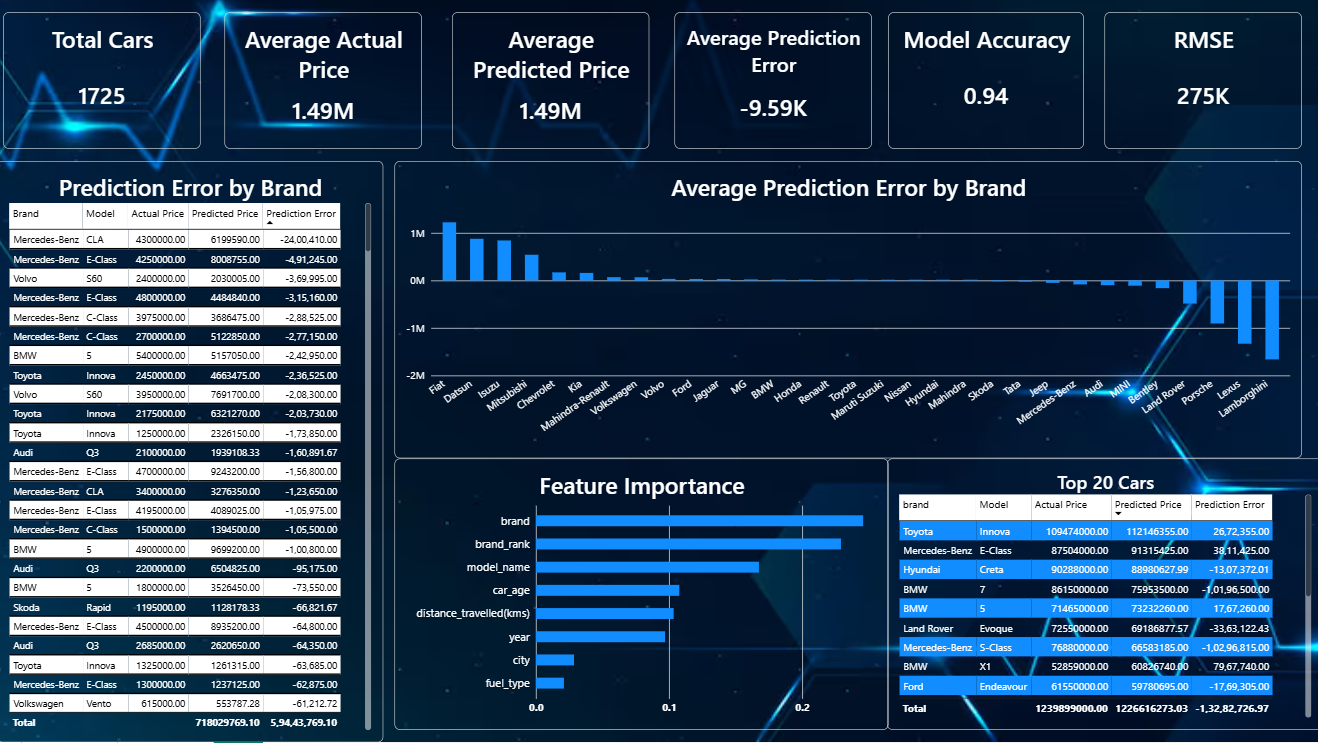

Layout of this report page (visuals, bound fields, positions):
{"tool":"powerbi","page":{"name":"Page 3","canvas":[1920,1080],"ordinal":2},"visuals":[{"type":"card","title":"Total Cars","fields":{"Values":["Final_Car_Price_Prediction.Total Cars"]},"box":[9.3,23.2,285.9,197.6],"z":0},{"type":"card","title":"Average Actual Price","fields":{"Values":["Final_Car_Price_Prediction.Average Actual Price"]},"box":[330.1,23.2,285.9,197.6],"z":1000},{"type":"card","title":"Average Prediction Error","fields":{"Values":["Final_Car_Price_Prediction.Average Prediction Error"]},"box":[980.9,23.2,285.9,197.6],"z":2000},{"type":"card","title":"Average Predicted Price","fields":{"Values":["Final_Car_Price_Prediction.Average Predicted Price"]},"box":[657.8,23.2,285.9,197.6],"z":3000},{"type":"card","title":"Model Accuracy","fields":{"Values":["Final_Car_Price_Prediction.Model Accuracy"]},"box":[1290.1,23.2,283.6,197.6],"z":4000},{"type":"card","title":"RMSE","fields":{"Values":["Final_Car_Price_Prediction.RMSE"]},"box":[1603.9,23.2,285.9,197.6],"z":5000},{"type":"tableEx","title":"Prediction Error by Brand","fields":{"Values":["Final_Car_Price_Prediction.brand","Final_Car_Price_Prediction.model_name","Final_Car_Price_Prediction.price","Sum(Final_Car_Price_Prediction.Predicted Price)","Sum(Final_Car_Price_Prediction.Prediction Error)"]},"box":[0,239.5,558.9,841.5],"z":6000},{"type":"clusteredBarChart","title":"Feature Importance","fields":{"Category":["feature_importance.Feature"],"Y":["Sum(feature_importance.Importance)"]},"box":[575.5,669.6,714.8,392.7],"z":7000},{"type":"clusteredColumnChart","title":"Average Prediction Error by Brand","fields":{"Category":["Final_Car_Price_Prediction.brand"],"Y":["Final_Car_Price_Prediction.Average Prediction Error"]},"box":[575.5,238.9,1313.8,430.7],"z":8000},{"type":"tableEx","title":"Top 20 Cars","fields":{"Values":["Final_Car_Price_Prediction.brand","Final_Car_Price_Prediction.model_name","Sum(Final_Car_Price_Prediction.price)","Sum(Final_Car_Price_Prediction.Predicted Price)","Sum(Final_Car_Price_Prediction.Prediction Error)"]},"box":[1288.5,669.6,631.6,392.7],"z":9000}]}

Visuals, with their boxes in screenshot pixels (x1, y1, x2, y2), scaled from the page's 1920x1080 canvas onto the 1318x743 screenshot:
"Total Cars" card: 6 16 203 152
"Average Actual Price" card: 227 16 423 152
"Average Prediction Error" card: 673 16 870 152
"Average Predicted Price" card: 452 16 648 152
"Model Accuracy" card: 886 16 1080 152
"RMSE" card: 1101 16 1297 152
"Prediction Error by Brand" tableEx: 0 165 384 742
"Feature Importance" clusteredBarChart: 395 461 886 731
"Average Prediction Error by Brand" clusteredColumnChart: 395 164 1297 461
"Top 20 Cars" tableEx: 885 461 1317 731
